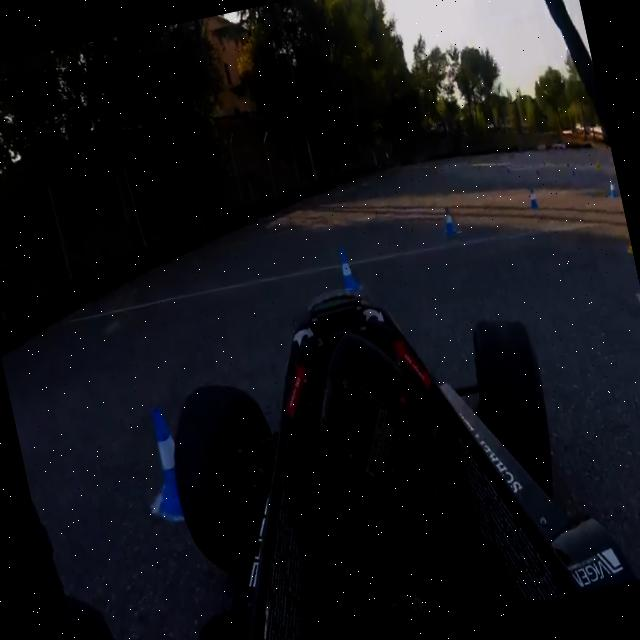blue_cone: (136, 402, 204, 528), (334, 244, 362, 300), (438, 200, 461, 246), (524, 184, 540, 217), (602, 174, 620, 203)
yellow_cone: (620, 220, 634, 258), (633, 270, 640, 308)
